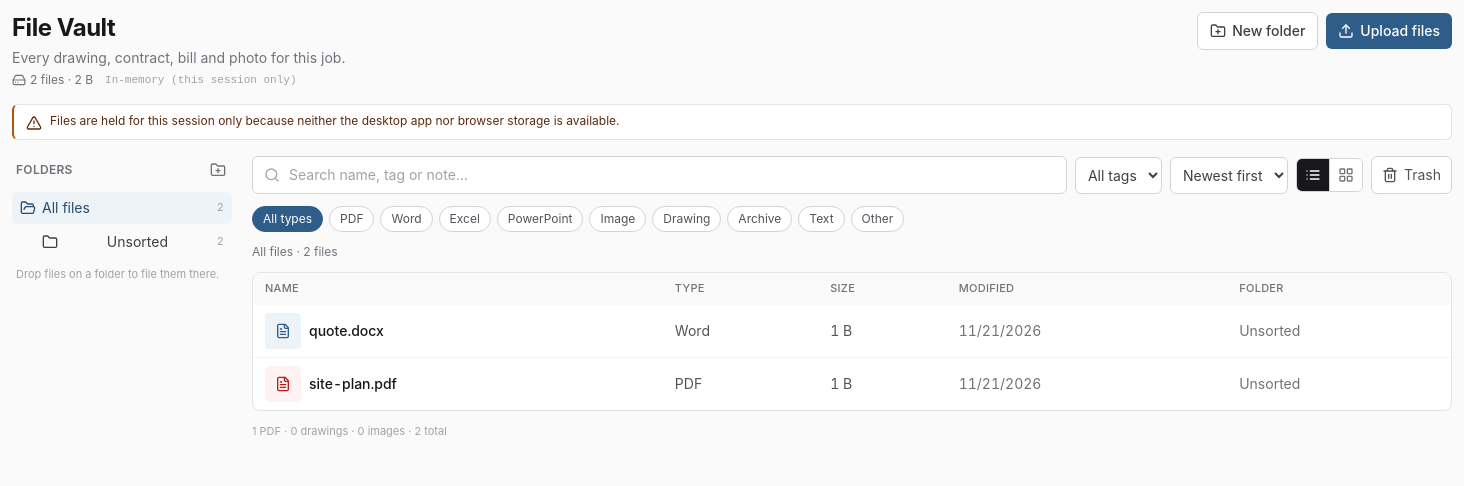
it: searches and filters by file type
The width and height of the screenshot is (1464, 486).
Expected: the text "site-plan.pdf" is shown, [309,374,397,394]
In the field with test id "vault-search": (660, 175) [252,156,1067,194], type "quote"
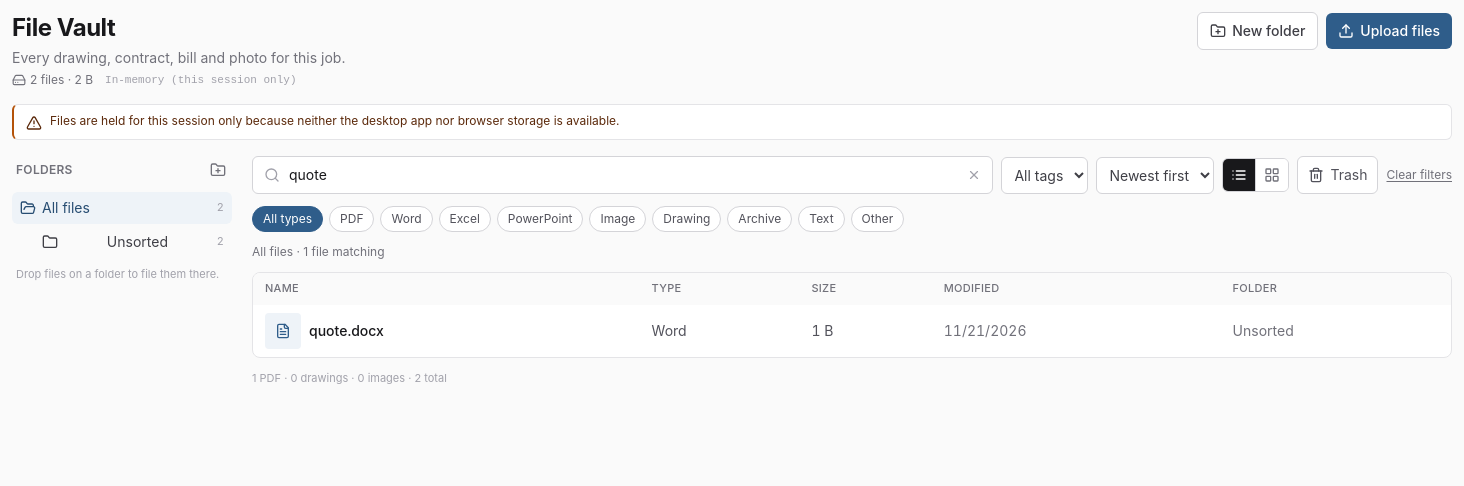
Expected: the text "quote.docx" is shown, [309,321,384,341]
Result: the text "site-plan.pdf" is gone
Clear the field with test id "vault-search": (623, 175) [252,156,993,194]
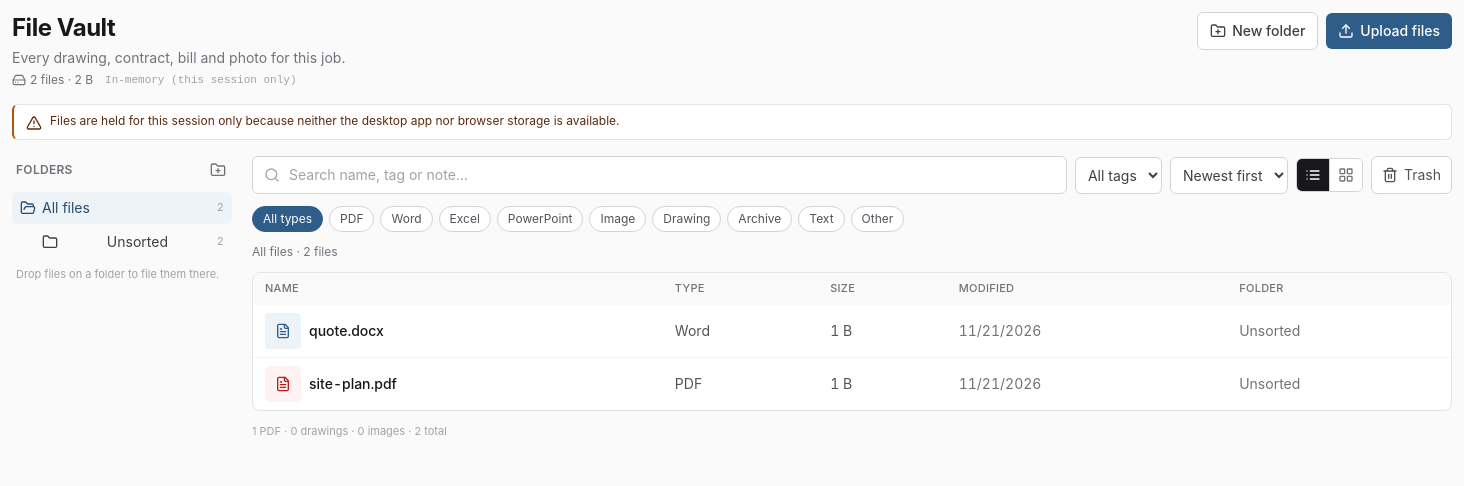
Result: the text "site-plan.pdf" is shown at [309,374,397,394]
Click the button with test id "vault-kind-drawing": click(687, 219) [652,206,721,232]
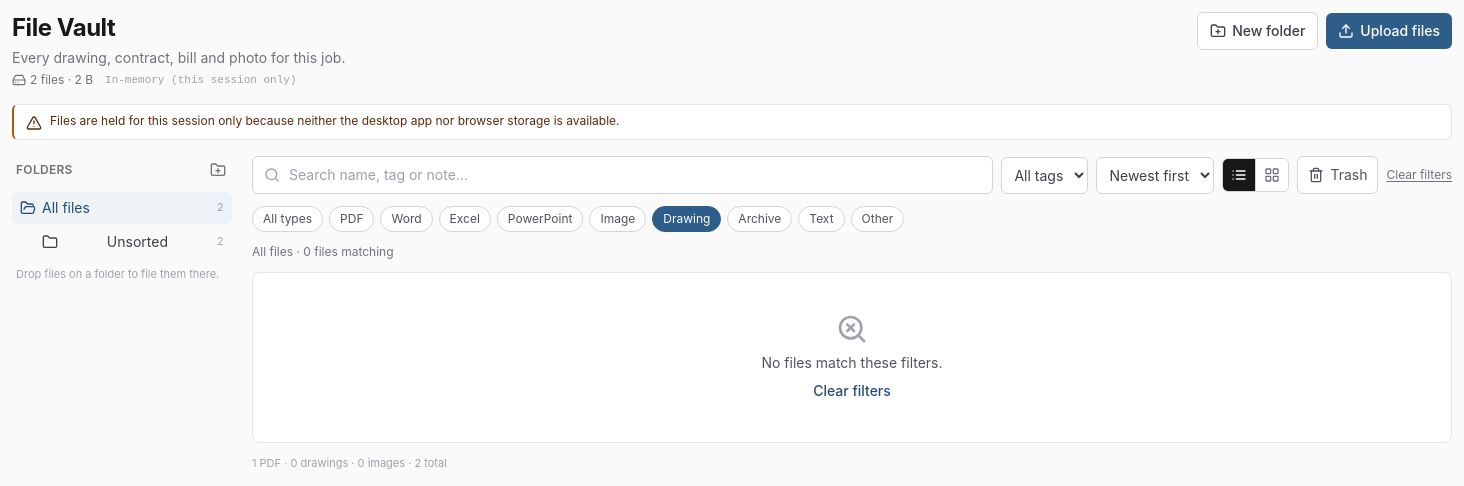
Result: the element with test id "vault-no-results" is shown at [252,272,1452,442]
